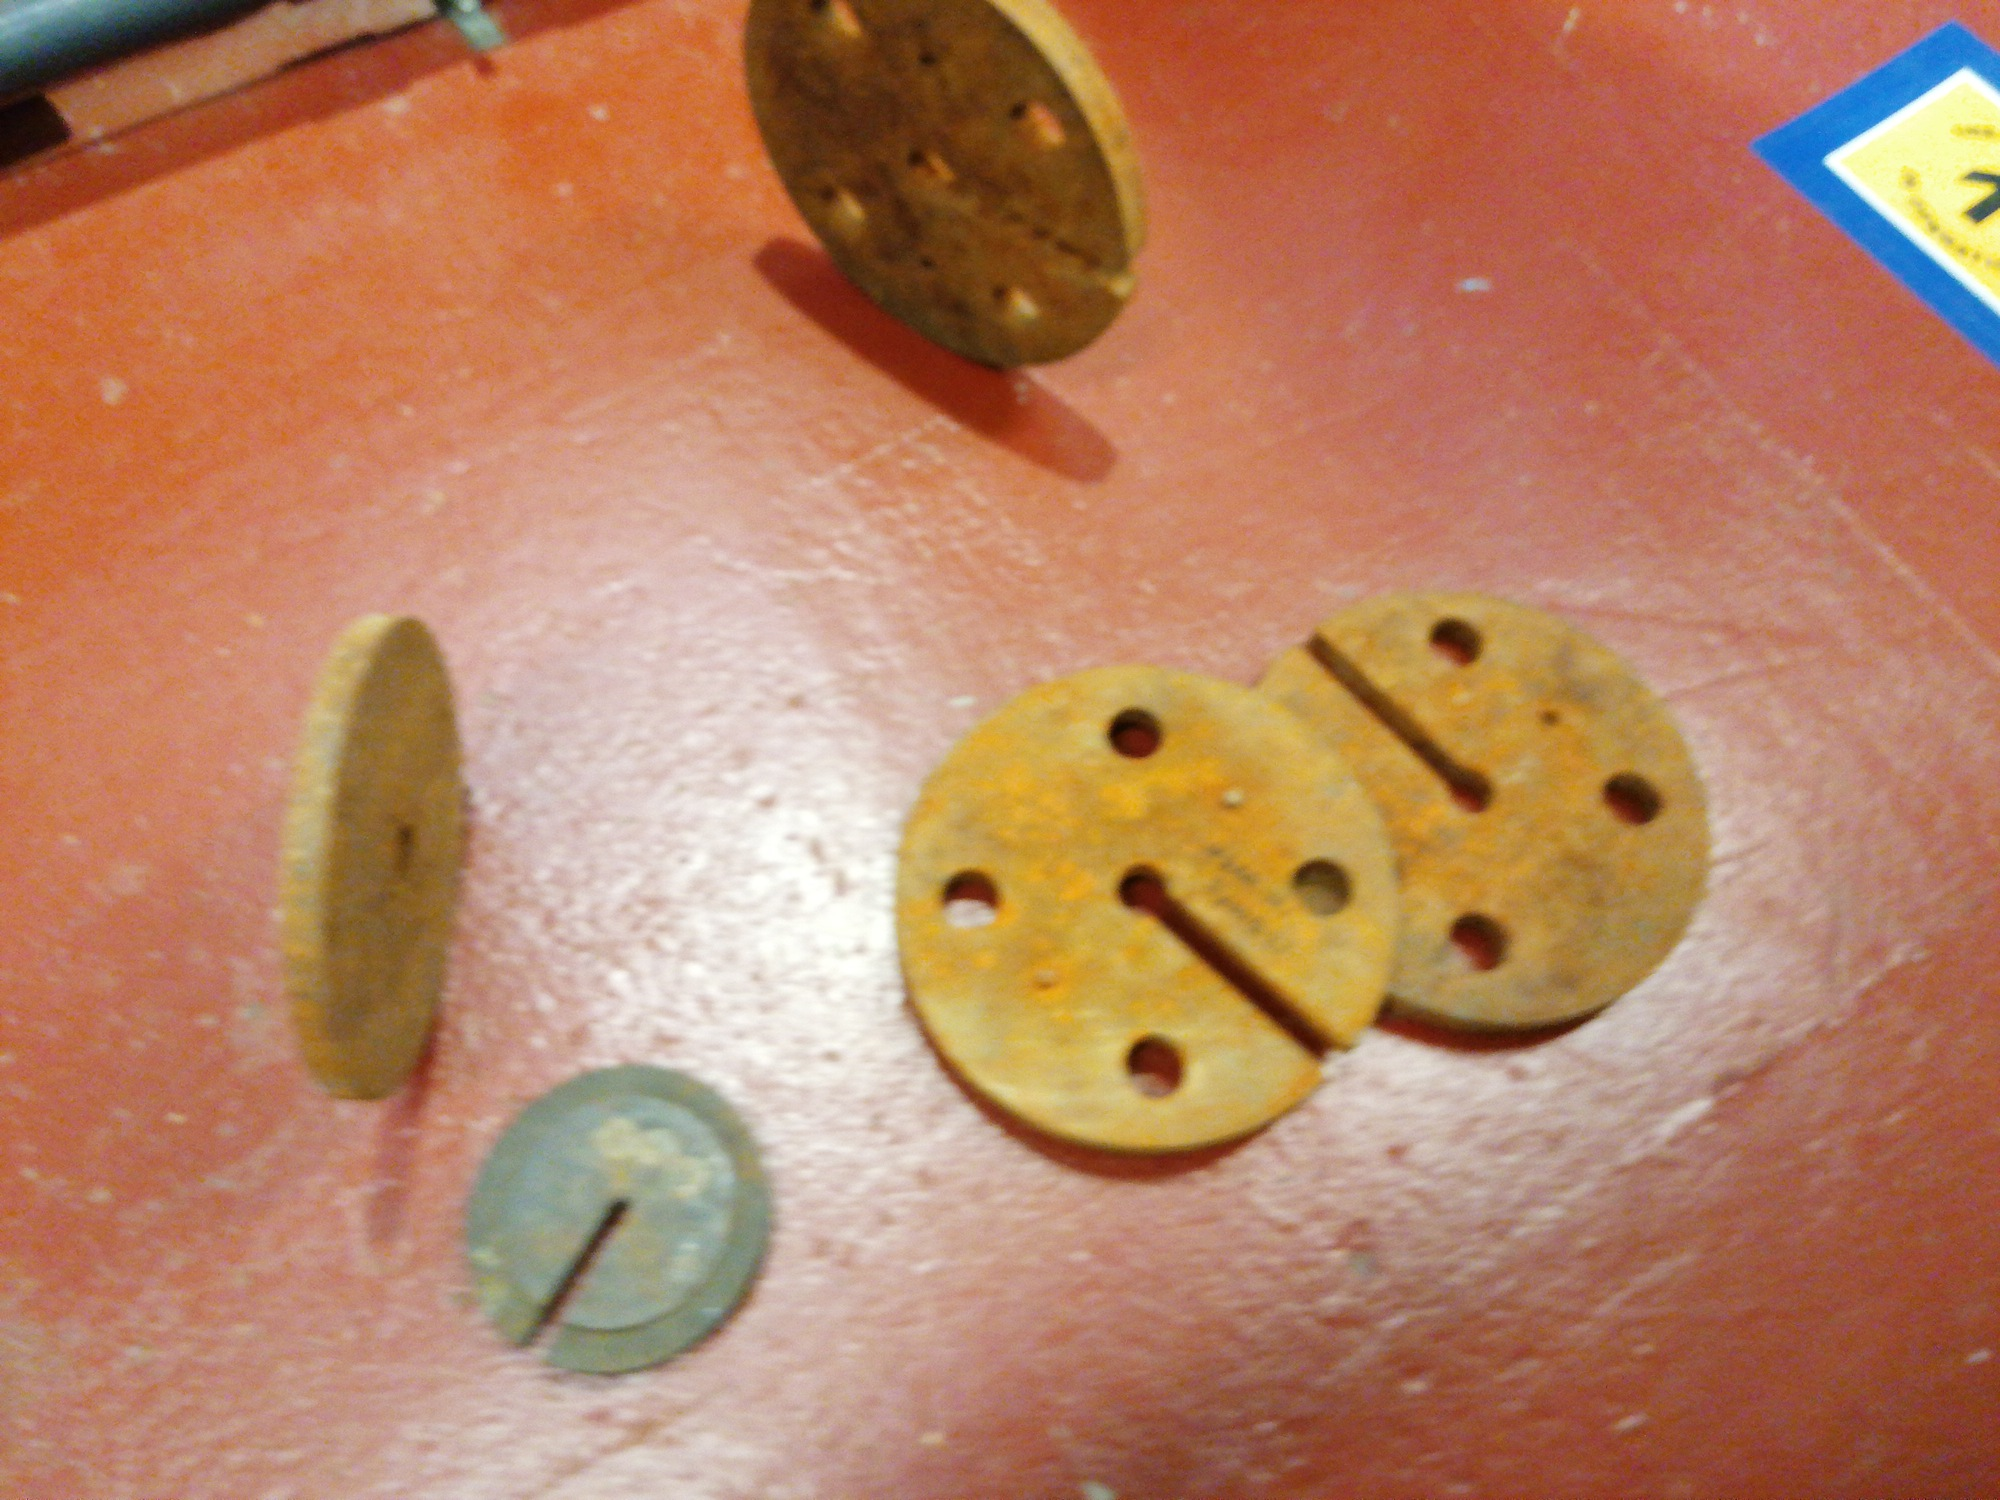flange: (896, 666, 1402, 1153), (1257, 592, 1717, 1049), (740, 2, 1146, 370), (466, 1067, 770, 1376), (282, 613, 469, 1105)
